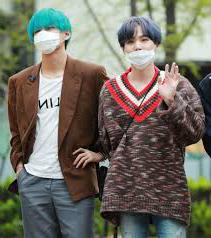mask_weared_incorrect: (125, 34, 150, 69)
with_mask: (33, 25, 58, 53)
